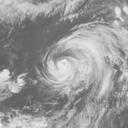cyclone: (37, 22, 104, 97)
